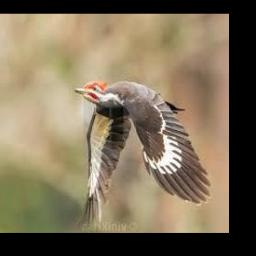Woodpecker: (74, 80, 211, 223)
